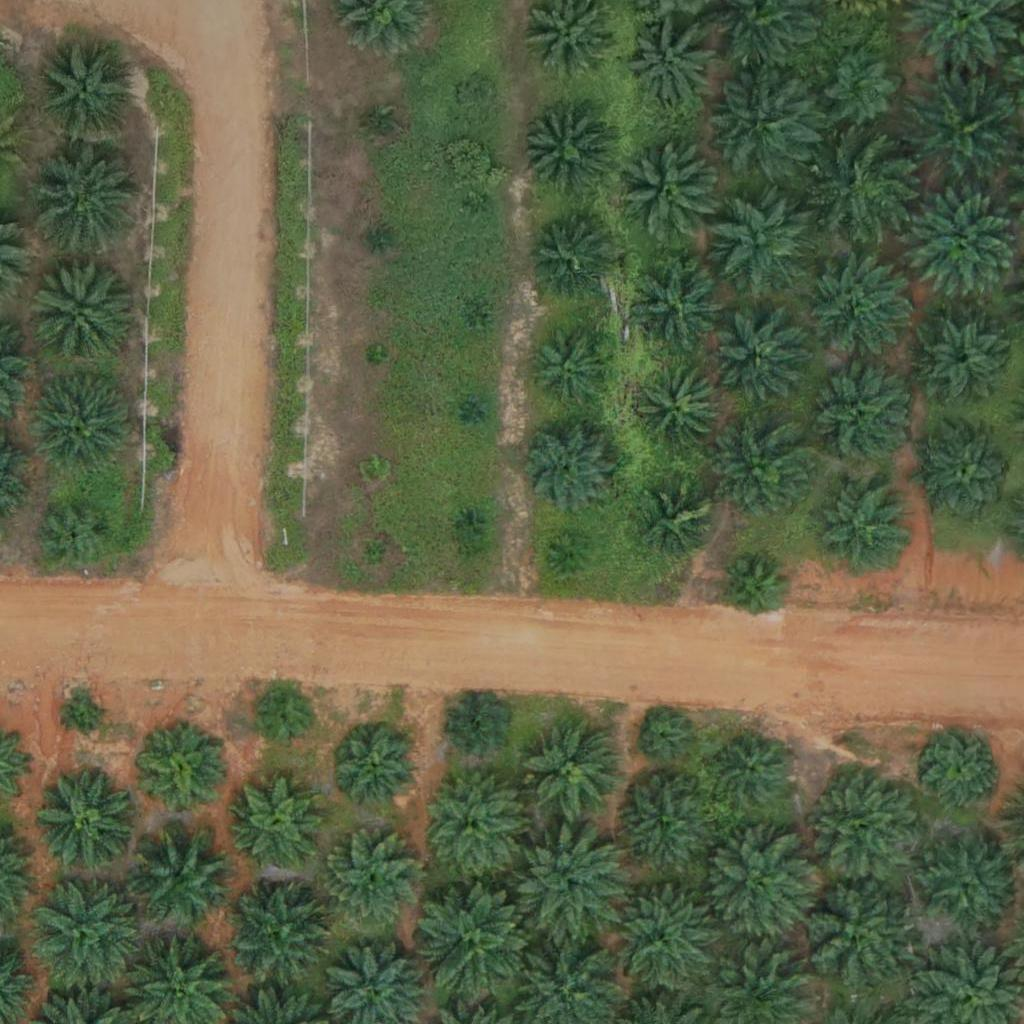Kelapa_Sawit: (415, 878, 540, 1004), (803, 762, 928, 888), (791, 873, 916, 999), (599, 881, 724, 1006), (905, 194, 1018, 308), (223, 878, 336, 992), (902, 74, 1015, 187), (512, 827, 625, 940), (710, 64, 822, 178), (512, 412, 624, 525), (31, 141, 143, 254), (29, 872, 141, 985), (701, 830, 813, 943), (709, 193, 809, 294), (618, 142, 718, 243), (626, 254, 726, 355), (713, 421, 813, 522), (807, 366, 907, 467), (812, 476, 912, 577), (33, 41, 133, 142), (319, 832, 419, 933), (423, 773, 523, 874), (523, 721, 623, 822), (612, 775, 712, 876), (814, 137, 914, 237), (807, 258, 907, 358), (918, 425, 1018, 525), (28, 261, 128, 361), (33, 375, 133, 475), (36, 767, 136, 867), (131, 825, 231, 925), (917, 834, 1017, 934), (530, 323, 618, 412), (915, 317, 1003, 405), (527, 215, 615, 303), (636, 367, 724, 455), (234, 777, 322, 865), (333, 726, 421, 814), (716, 319, 803, 407), (628, 20, 715, 108), (521, 109, 608, 197), (140, 731, 227, 819), (39, 497, 114, 573), (823, 48, 898, 124), (924, 731, 999, 807), (643, 485, 718, 560), (715, 734, 790, 809), (722, 558, 785, 621), (445, 696, 508, 759), (255, 689, 317, 752), (640, 713, 690, 763), (459, 79, 497, 117), (552, 534, 590, 572), (67, 697, 104, 735), (468, 194, 493, 219), (462, 310, 487, 335), (368, 114, 393, 139), (368, 227, 393, 252), (364, 345, 389, 370), (360, 457, 385, 482), (363, 541, 388, 566), (463, 399, 488, 424), (456, 509, 481, 534)
